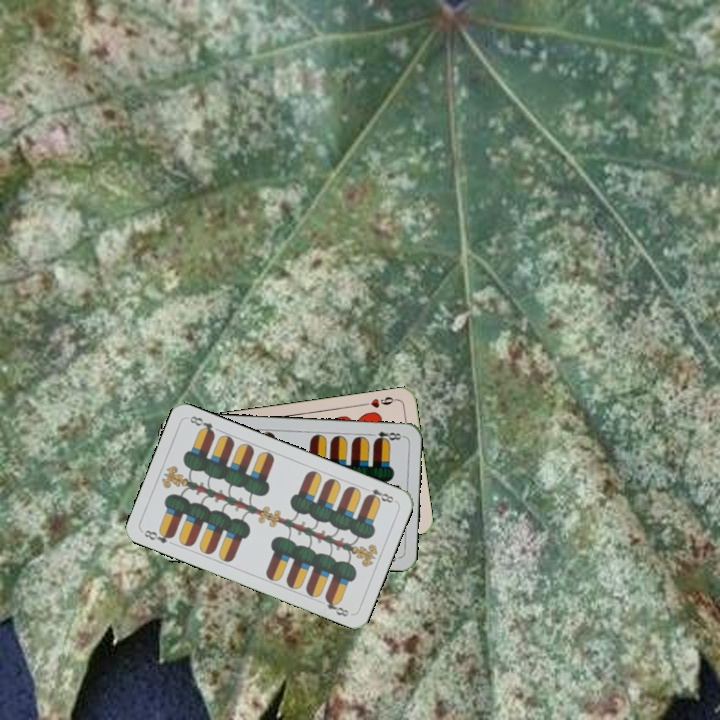E8: (360, 483, 398, 506), (140, 526, 177, 546), (365, 427, 406, 445)
H9: (359, 393, 400, 410)
